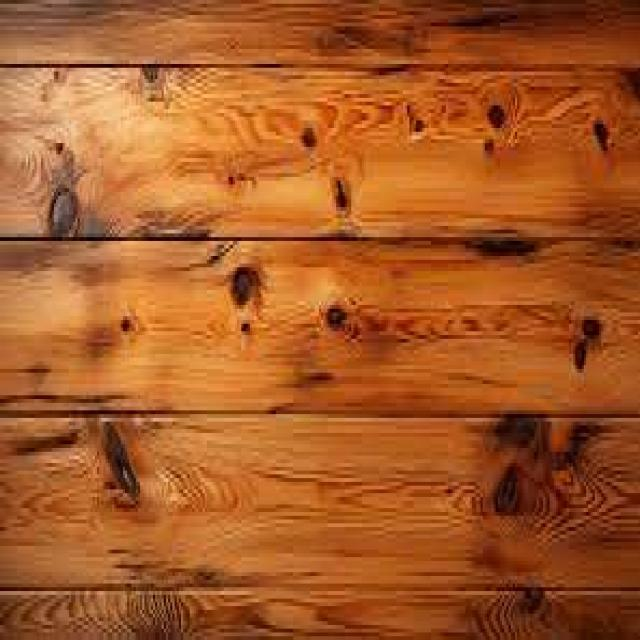have-wooden-eyes: (106, 421, 138, 499), (51, 190, 78, 235), (495, 417, 534, 446), (495, 465, 518, 512), (231, 271, 259, 305), (519, 590, 542, 613), (326, 308, 348, 329), (488, 105, 505, 128), (574, 338, 586, 370), (581, 319, 599, 340), (596, 120, 608, 150), (336, 179, 346, 209), (301, 127, 316, 147)
perfect-wooden-plate: (0, 0, 640, 69)
